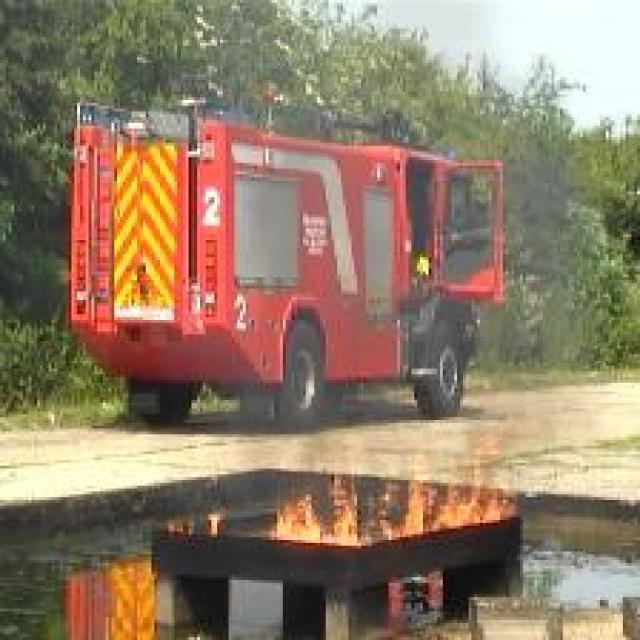Fire: (270, 428, 513, 546)
